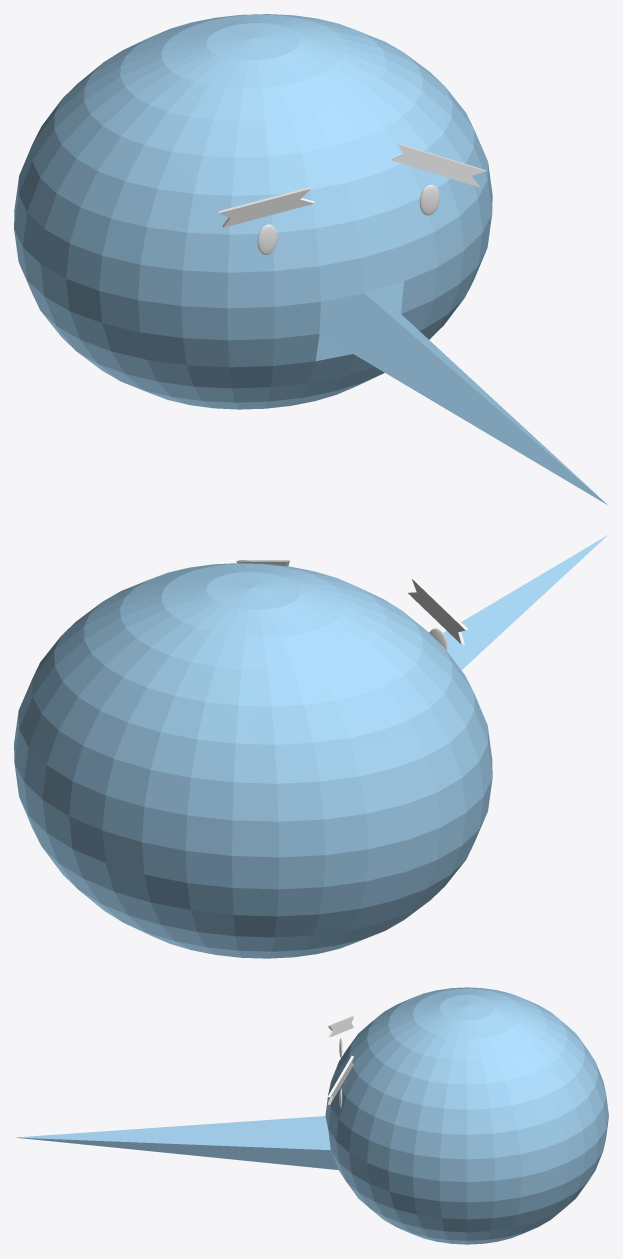
File: CabezaReyHelado_obj.obj
3 renders of one model, top to bottom at view 1: azimuth 30°, elevation 25°; view 2: azimuth 150°, elevation 25°; view 3: azimuth 270°, elevation 25°, orthographic. The views are drawn at different scales.
Parts seen in each view (by area): view 1: Cabeza; view 2: Cabeza; view 3: Cabeza.
Part boxes in pixels (x1=…): Cabeza: x1=14, y1=14, x2=607, y2=504; Cabeza: x1=14, y1=535, x2=607, y2=958; Cabeza: x1=15, y1=987, x2=608, y2=1244.
Size of the model in its own units: 5.21 by 4.05 by 9.89.
